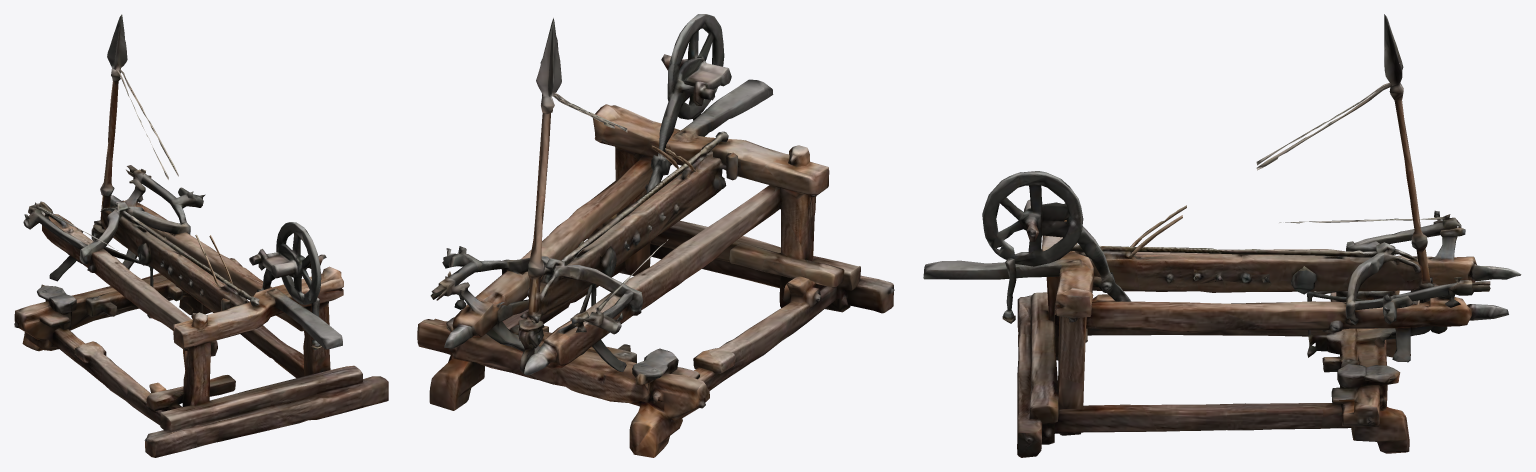
The model's file is ballista-mid.glb.
The picture shows the model from 3 angles, left to right: view 1: azimuth 30°, elevation 25°; view 2: azimuth 150°, elevation 25°; view 3: azimuth 270°, elevation 25°; orthographic projection. The views are drawn at different scales.
Size of the model in its own units: 0.5618 by 0.718 by 0.9993.
Materials: 1 (1 with a texture image).
